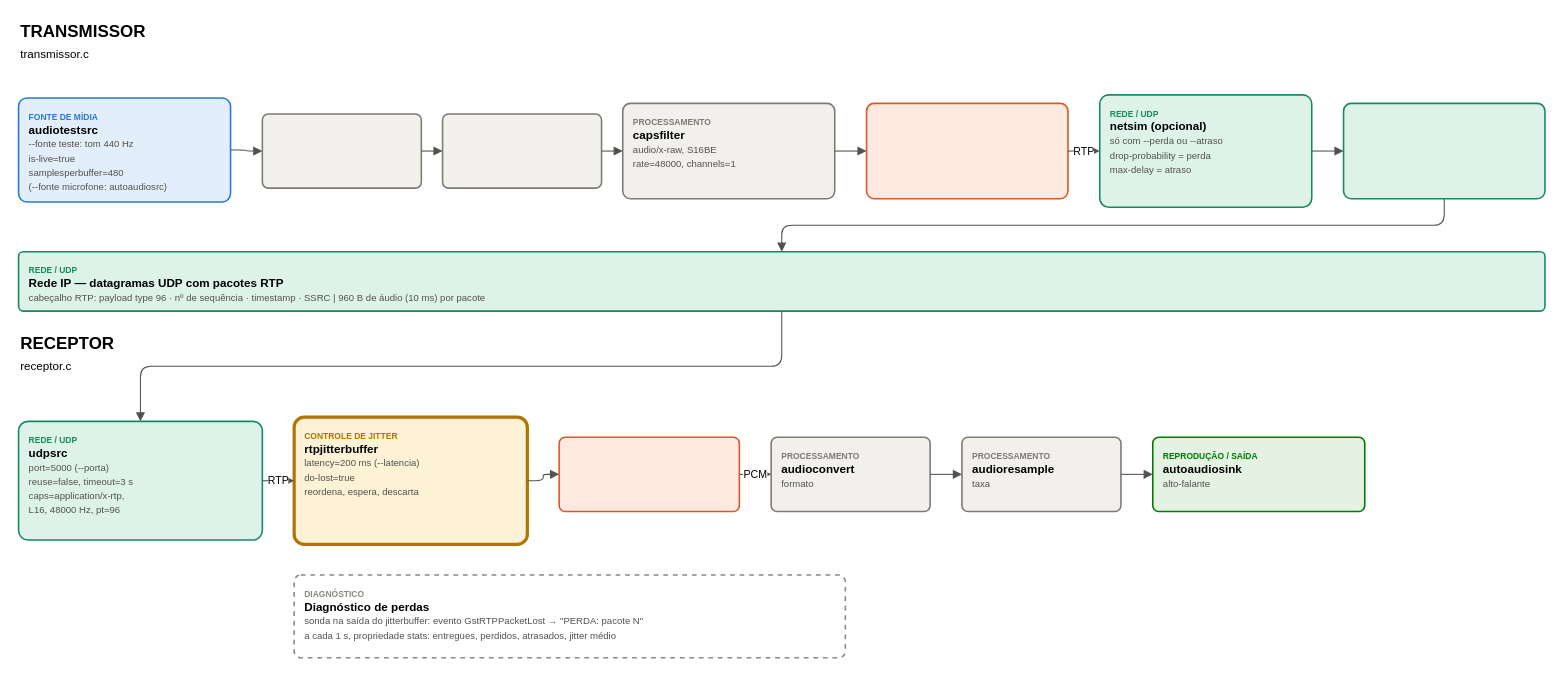
The diagram is 1565 pixels wide and 676 high, and some of its shapes have lost their labels. Here are the shapes that lost their labels. From the top down, the centre of each, then its label:
point (341, 150): PROCESSAMENTO audioconvert formato das amostras
point (521, 150): PROCESSAMENTO audioresample taxa de amostragem
point (966, 150): ENCAPSULAMENTO RTP rtpL16pay pt=96 min/max-ptime=10 ms
point (1443, 150): REDE / UDP udpsink host=127.0.0.1 (--host) port=5000 (--porta) sync=false
point (649, 474): ENCAPSULAMENTO RTP rtpL16depay remove o cabeçalho RTP
